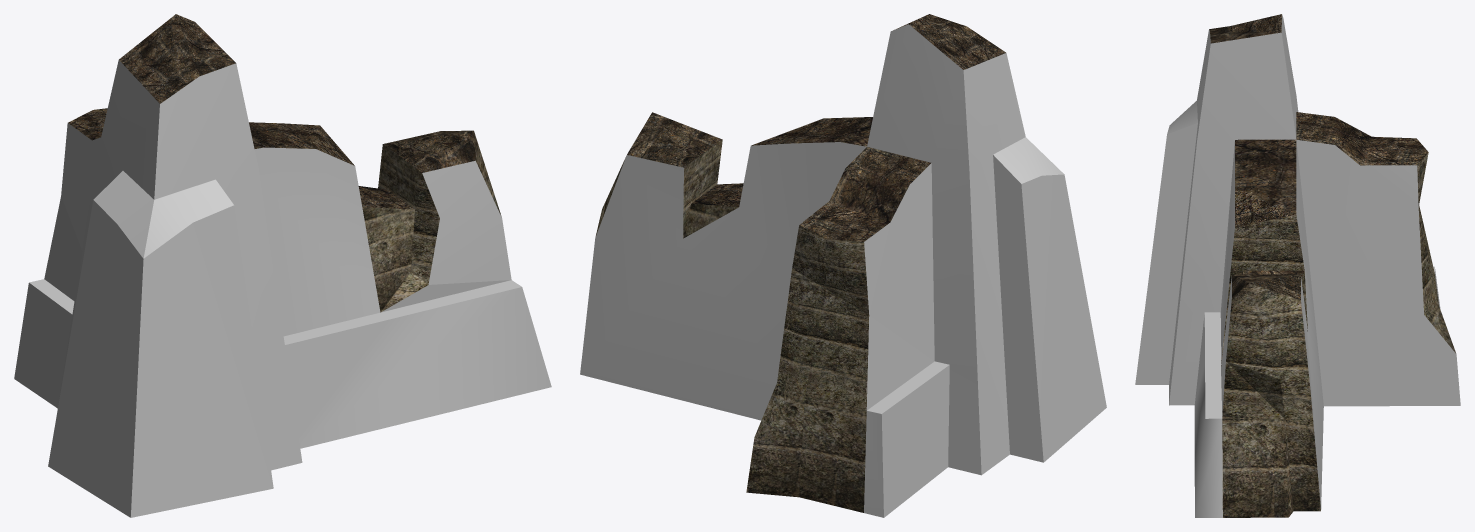
3 views of the same model, side by side, from view 1: azimuth 30°, elevation 25°; view 2: azimuth 150°, elevation 25°; view 3: azimuth 270°, elevation 25° (orthographic). The views are drawn at different scales.
Visible parts, largest first — view 1: Elements_Labirint_07; view 2: Elements_Labirint_07; view 3: Elements_Labirint_07.
Boxes of the visible parts, x1,y1,x2,y2 form: Elements_Labirint_07: [14, 14, 551, 517]; Elements_Labirint_07: [580, 14, 1106, 517]; Elements_Labirint_07: [1135, 14, 1460, 517].
Size of the model in its own units: 989 by 694 by 858.
